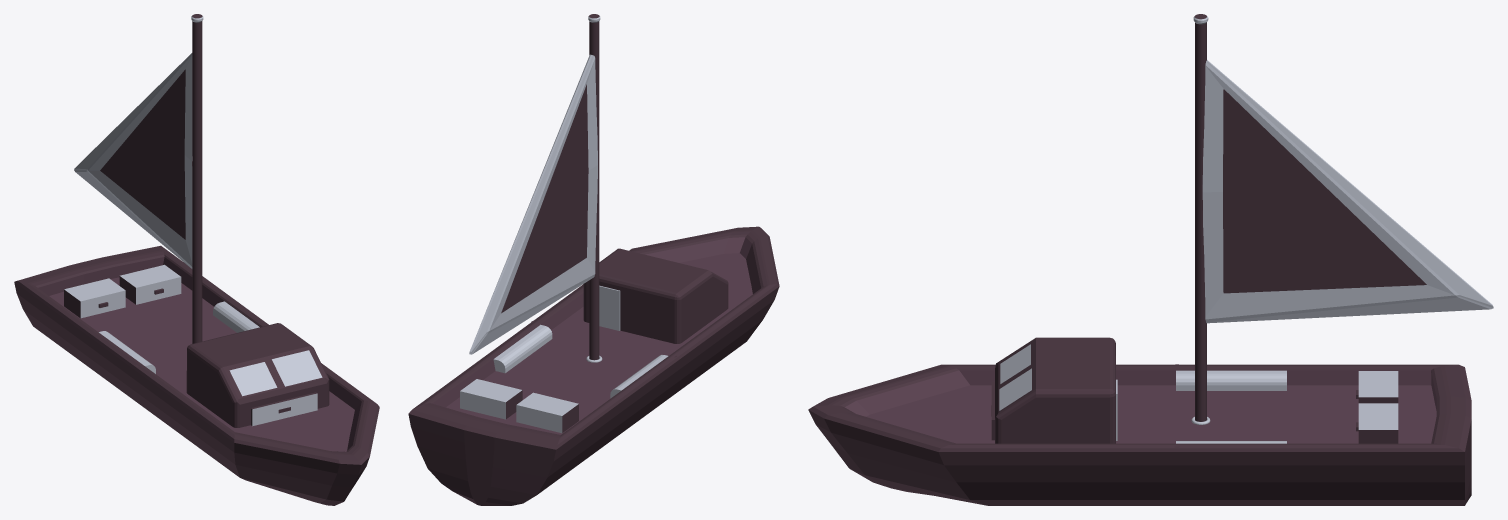
File: Boat_Sail.fbx
3 renders of one model, left to right at view 1: azimuth 30°, elevation 25°; view 2: azimuth 150°, elevation 25°; view 3: azimuth 270°, elevation 25°, orthographic. The views are drawn at different scales.
Visible parts, largest first — view 1: Cube; view 2: Cube; view 3: Cube.
Part boxes in pixels (x1,y1,x2,y2): Cube: [14, 14, 379, 505]; Cube: [408, 14, 779, 505]; Cube: [808, 14, 1493, 505].
Bounding box in the file's own units: 479 × 1255 × 1633.
